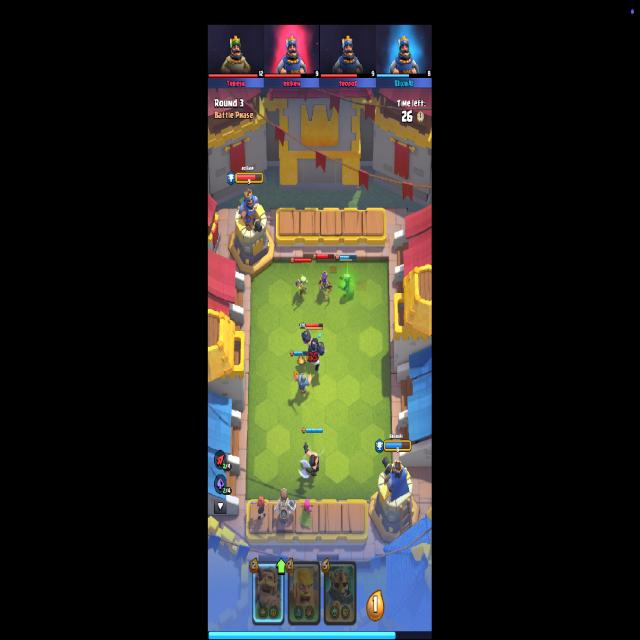archer: (300, 499, 315, 528)
archer_queen: (318, 270, 332, 300)
bandit: (339, 272, 354, 304)
card_barbarian: (288, 561, 320, 626)
card_giant_skeleton: (324, 561, 356, 625)
card_knight: (252, 560, 286, 628)
executioner: (297, 441, 320, 481)
giant_skeleton: (273, 489, 296, 524)
knight: (292, 368, 313, 397)
mega_knight: (300, 328, 326, 373)
spear_goblin: (294, 273, 308, 297)
valkyrie: (250, 495, 266, 521)
